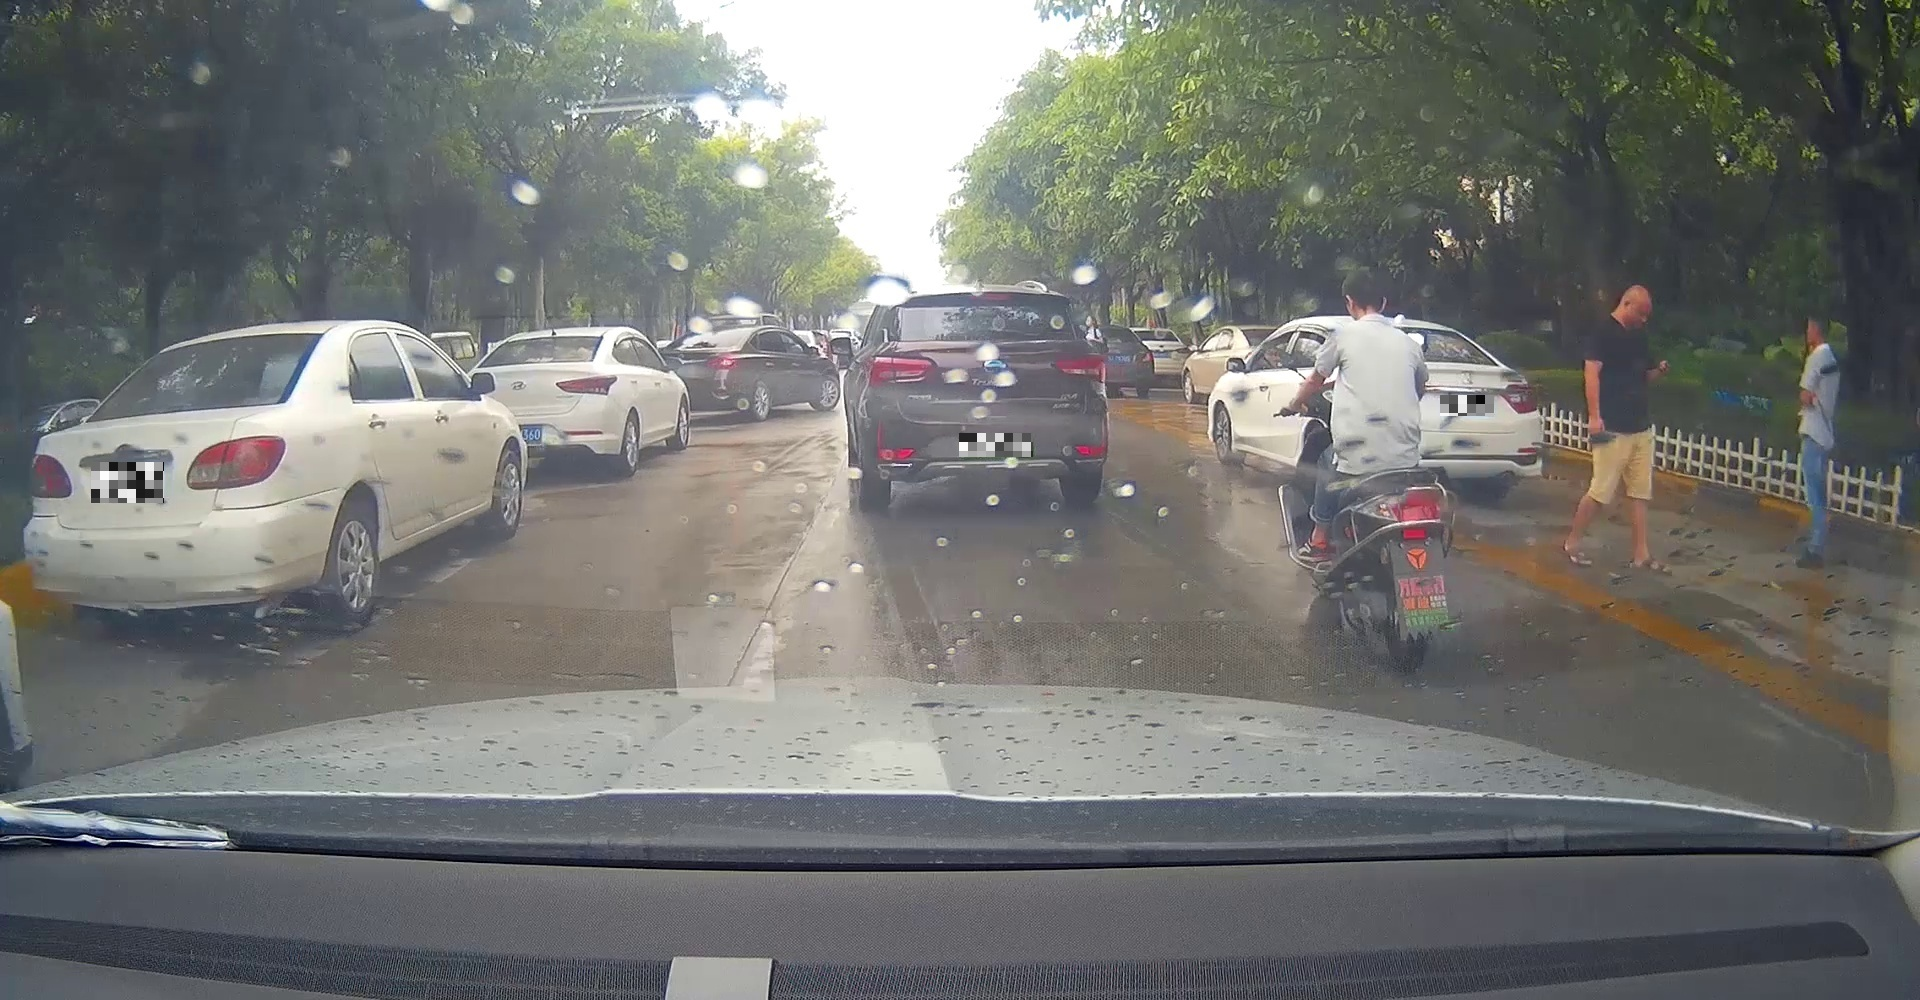L_light: (866, 357, 937, 388), (28, 453, 72, 499)
R_light: (185, 435, 286, 489), (1053, 353, 1106, 383)
T_light: (201, 340, 235, 352), (968, 293, 1012, 301)
day-no: (22, 319, 324, 636), (863, 280, 1109, 511)
plate_1: (91, 462, 164, 503)
plate_2: (959, 433, 1032, 457)
plate_3: (1440, 395, 1495, 416)
